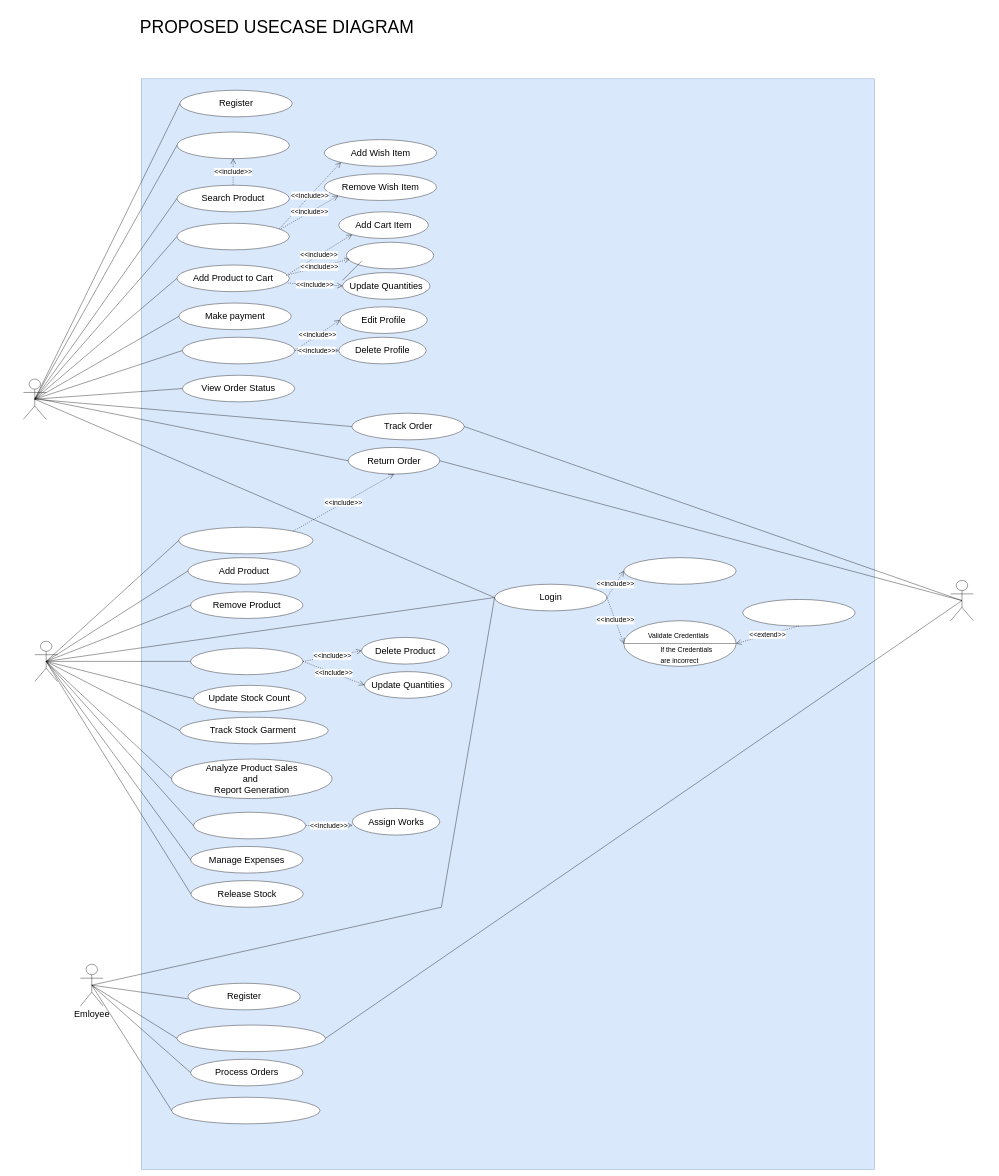
The diagram is 999 pixels wide and 1176 high, and some of its shapes have lost their labels. Here are the shapes that lost their labels. From the top down, the centre of each, then its label:
pixel 233 145: View Product
pixel 233 236: Manage Wishlist
pixel 390 255: Remove Cart Item
pixel 238 350: Manage P rofile
pixel 34 399: Customer
pixel 245 540: Return Order Management
pixel 679 570: Forgot Password
pixel 798 612: Show Error
pixel 961 600: Currier Servce
pixel 46 661: Shop Owner/Admin
pixel 246 661: Update Product
pixel 249 825: Manage Employees
pixel 251 1038: Conform And Deliver Order
pixel 245 1110: Update Inventory After delivered
